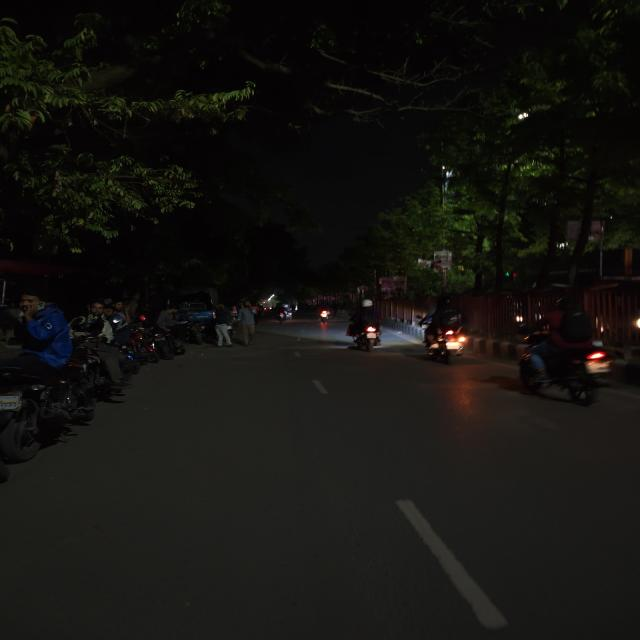motorcycle: (0, 292, 124, 476), (512, 303, 623, 410), (414, 293, 475, 367), (138, 310, 186, 360), (344, 299, 388, 353), (313, 303, 337, 329), (272, 307, 288, 326)
pedestrian: (210, 303, 237, 346), (235, 300, 260, 344)
